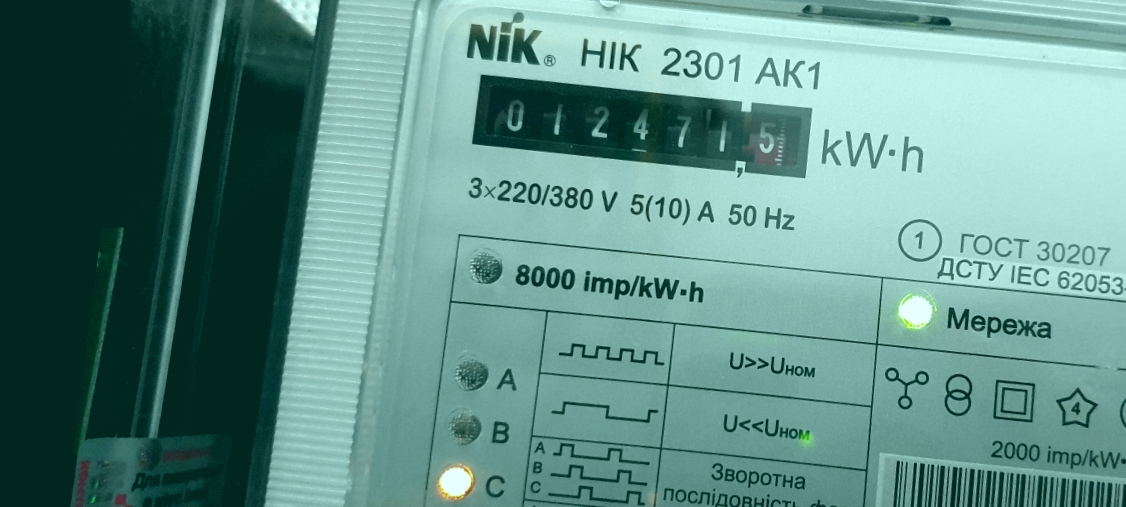0: (500, 94, 528, 133)
1: (549, 100, 565, 136), (714, 116, 729, 153)
2: (588, 102, 613, 140)
4: (629, 103, 652, 142)
5: (754, 116, 780, 156)
7: (668, 110, 693, 150)
screen: (459, 55, 826, 196)
